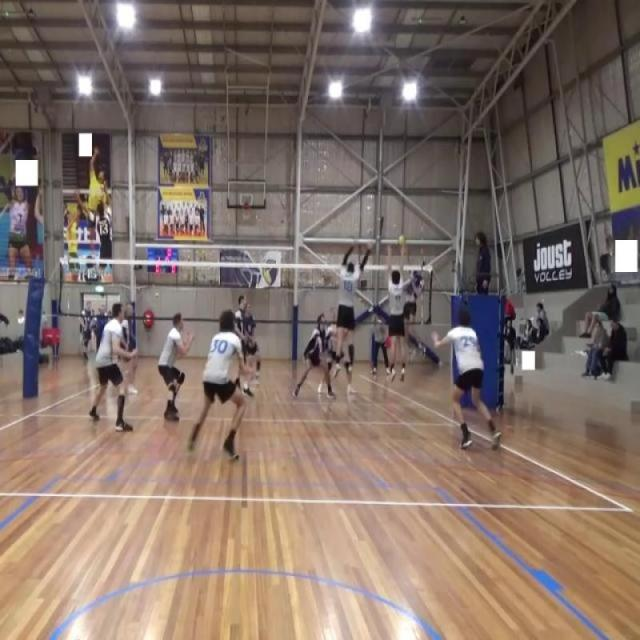volleyball: (396, 234, 407, 248)
